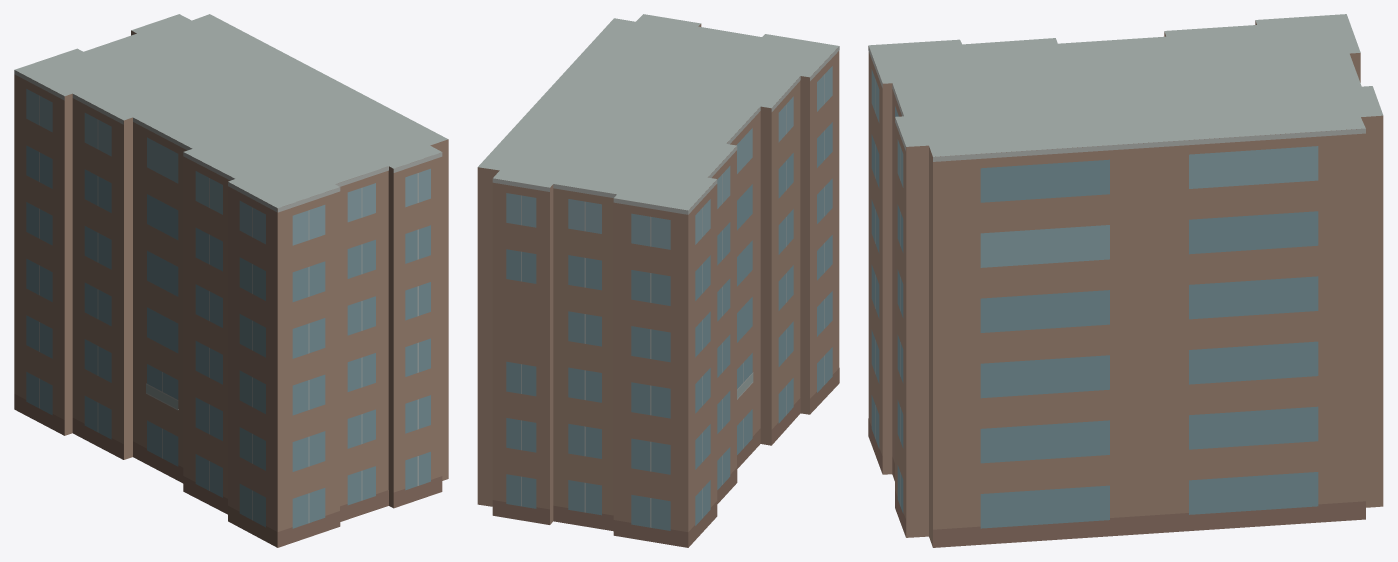
The model's file is survey-upis-32713494.glb.
The picture shows the model from 3 angles, left to right: view 1: azimuth 30°, elevation 25°; view 2: azimuth 150°, elevation 25°; view 3: azimuth 270°, elevation 25°; orthographic projection. The views are drawn at different scales.
Visible parts, largest first — view 1: survey-upis-32713494.tmp; view 2: survey-upis-32713494.tmp; view 3: survey-upis-32713494.tmp.
Boxes of the visible parts, x1=… form: survey-upis-32713494.tmp: x1=14, y1=14, x2=448, y2=547; survey-upis-32713494.tmp: x1=477, y1=14, x2=839, y2=547; survey-upis-32713494.tmp: x1=868, y1=14, x2=1383, y2=547.
Bounding box in the file's own units: 14.75 × 18.8 × 22.45.
